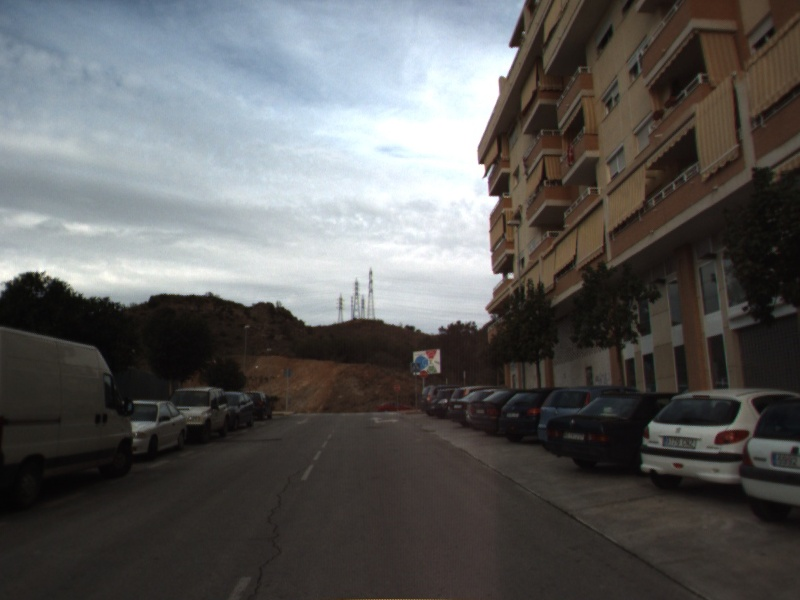STRAIGHT_RIGHT: (367, 415, 402, 426)
